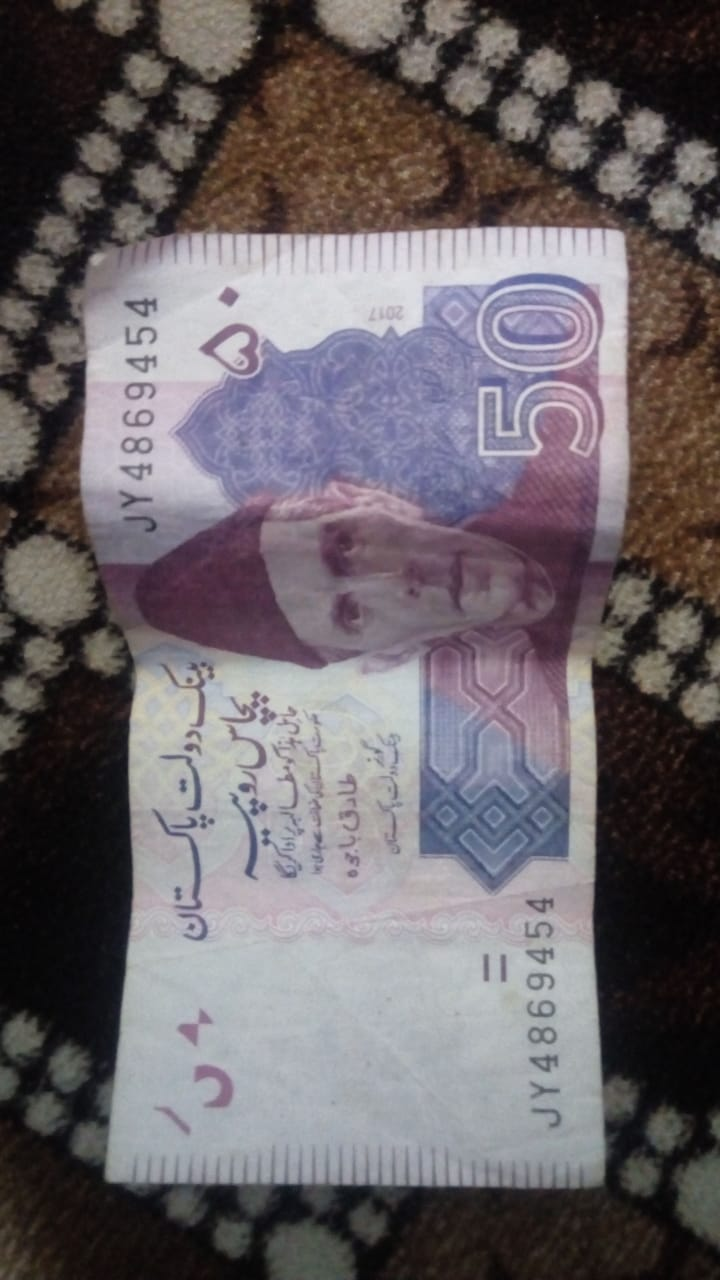50 rupee: (55, 218, 662, 1231)
